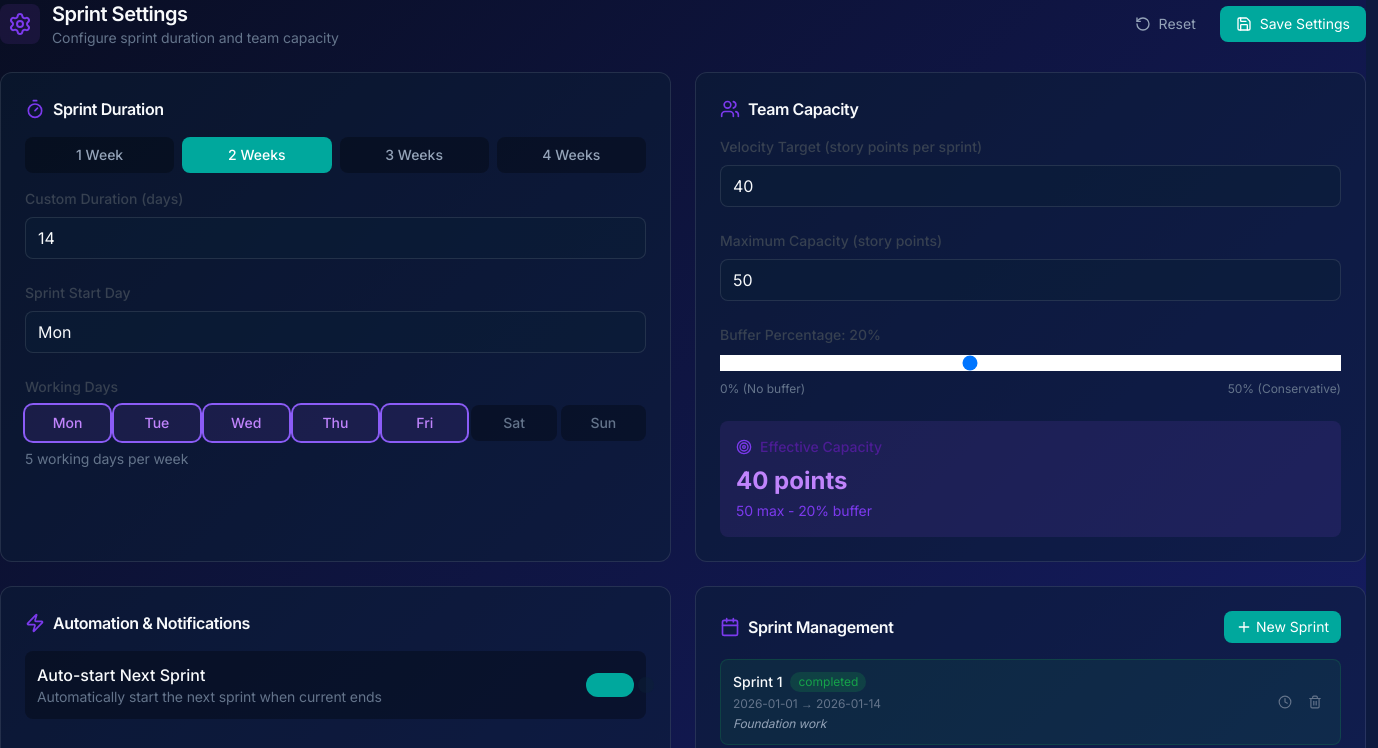
Test case: SprintSettings — create sprint form › renders Sprint Goal input in create form
Click the button "New Sprint". click: (1282, 627)
box: left=1224, top=611, right=1341, bottom=643
(page scrolled)
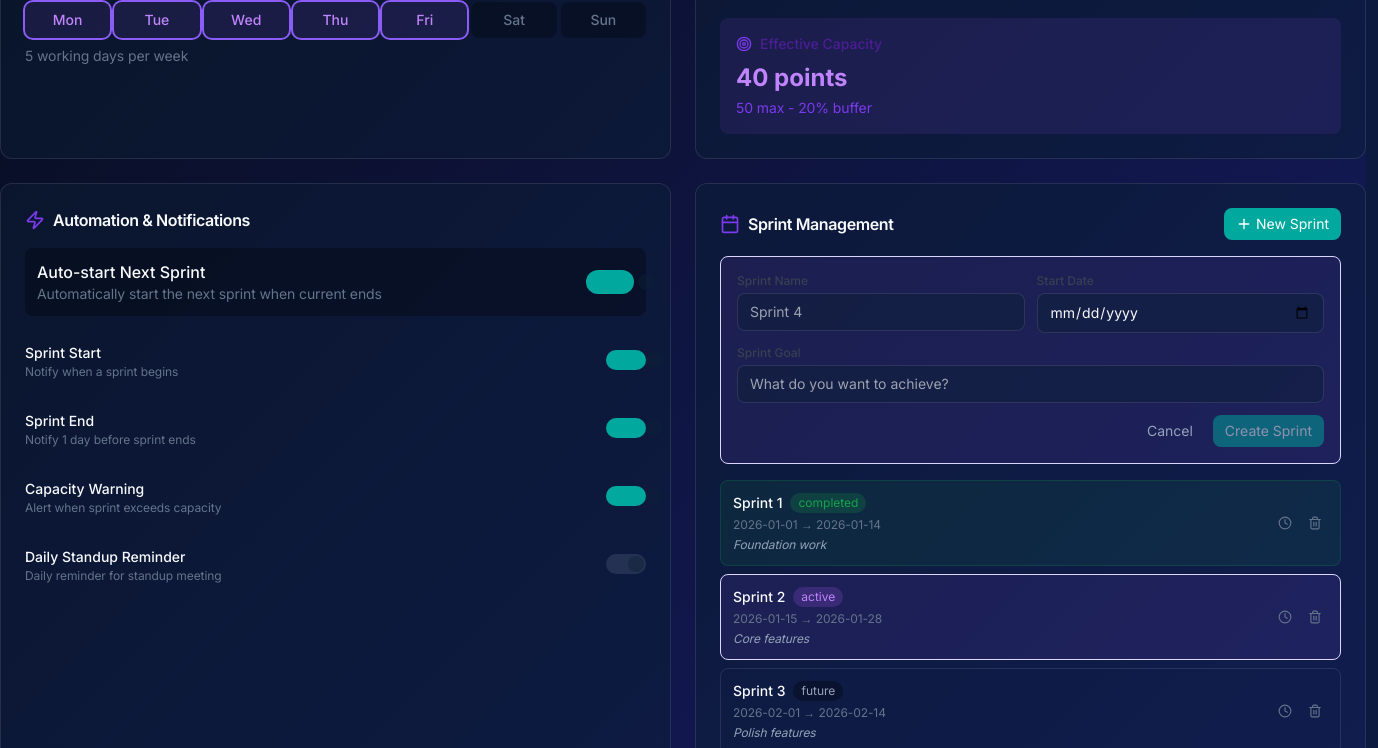
Result: the field with placeholder "What do you want to achieve?" is shown at left=737, top=365, right=1324, bottom=403
